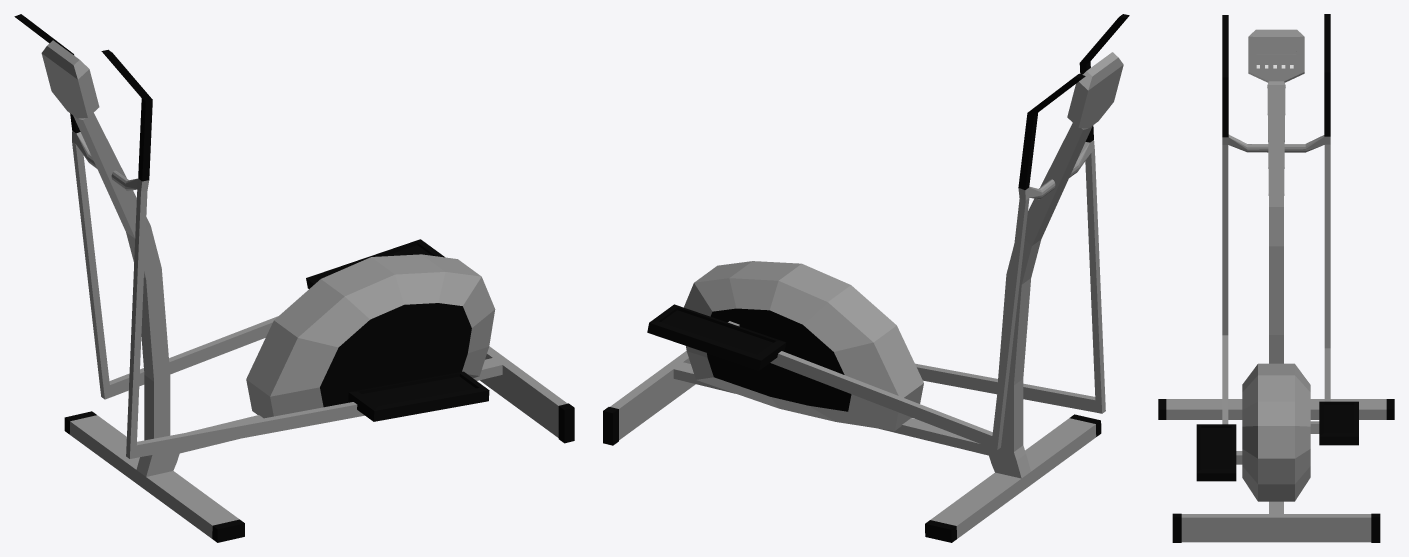
File: CrossTrainer.001.fbx
3 views of the same model, side by side, from view 1: azimuth 30°, elevation 25°; view 2: azimuth 150°, elevation 25°; view 3: azimuth 270°, elevation 25° (orthographic). The views are drawn at different scales.
Parts seen in each view (by area): view 1: CrossTrainer.001; view 2: CrossTrainer.001; view 3: CrossTrainer.001.
Part boxes in pixels (x1,y1,x2,y2): CrossTrainer.001: (14, 14, 574, 542); CrossTrainer.001: (603, 14, 1129, 542); CrossTrainer.001: (1158, 14, 1394, 542).
Bounding box in the file's own units: 176 × 174 × 102.
